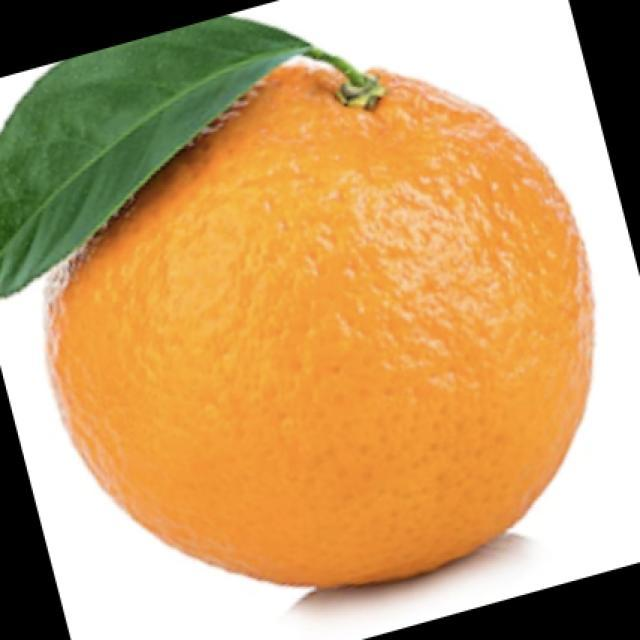matang: (47, 64, 593, 587)
